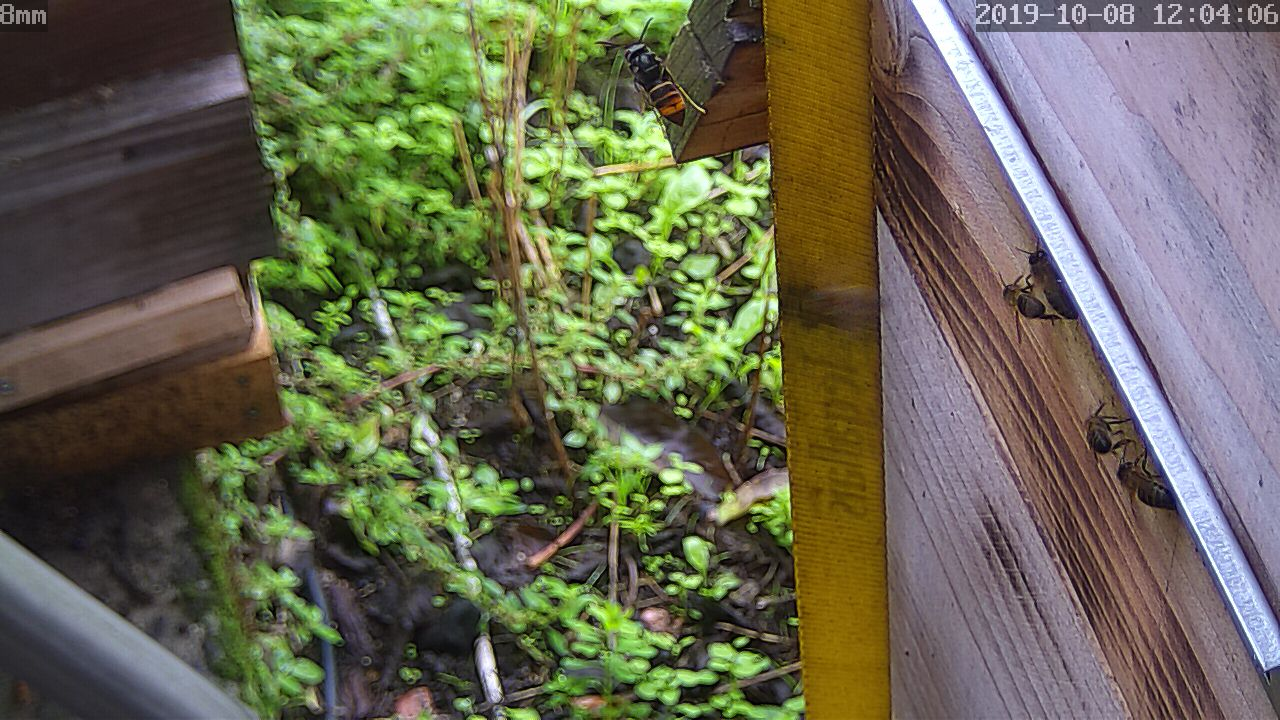bee: (998, 247, 1086, 336), (1112, 452, 1181, 519), (1075, 404, 1127, 461)
hornet: (612, 27, 708, 145)
